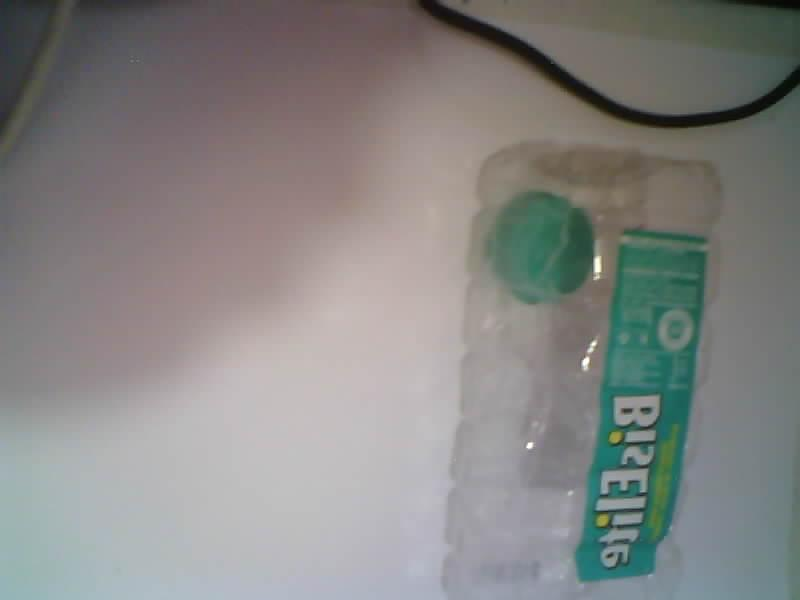non-biodegradable: (443, 144, 720, 599)
